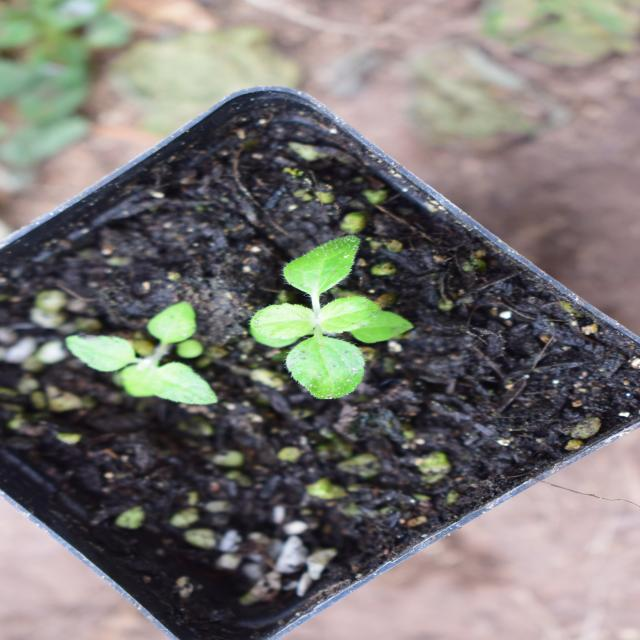billygoat_weed: (244, 248, 414, 398), (232, 91, 355, 219)
